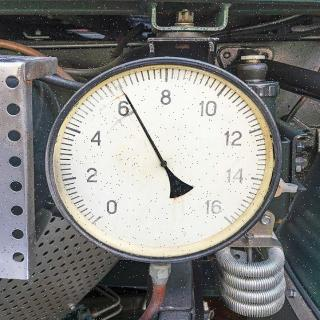gauge: (36, 43, 316, 269), (209, 204, 240, 232), (86, 203, 115, 230), (158, 159, 168, 169), (121, 88, 129, 100)
